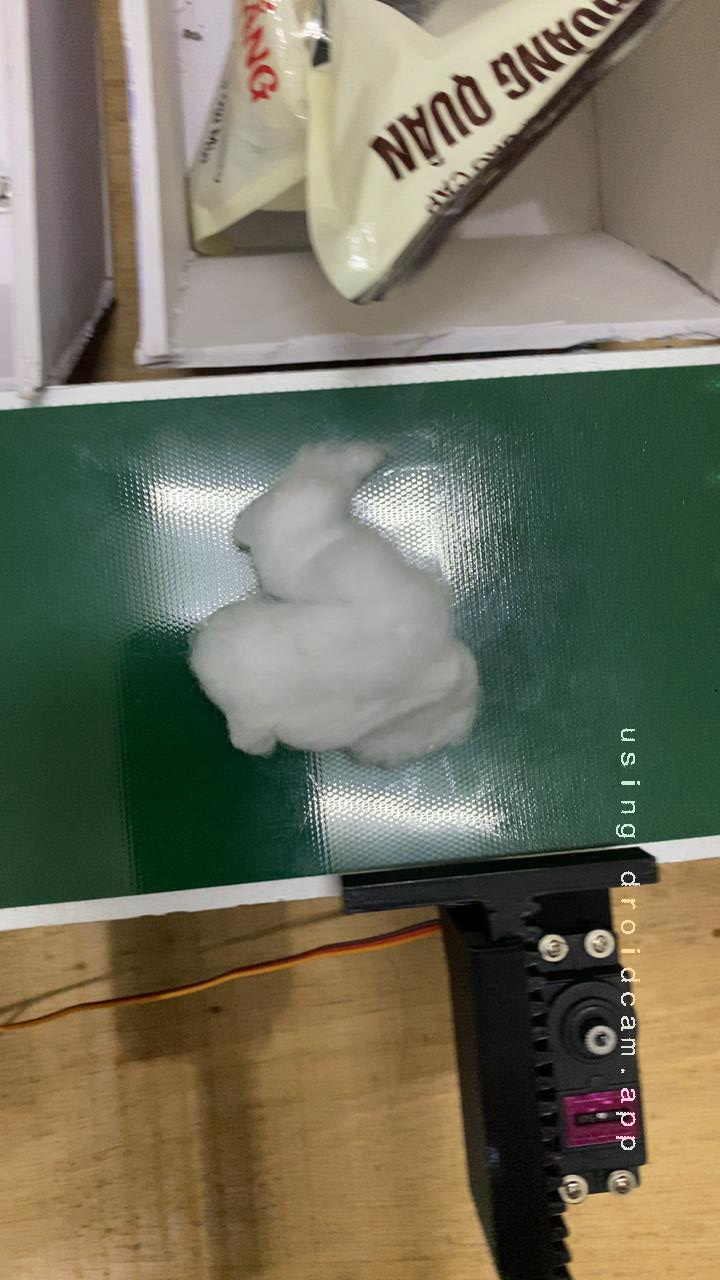cotton: (159, 413, 519, 795)
